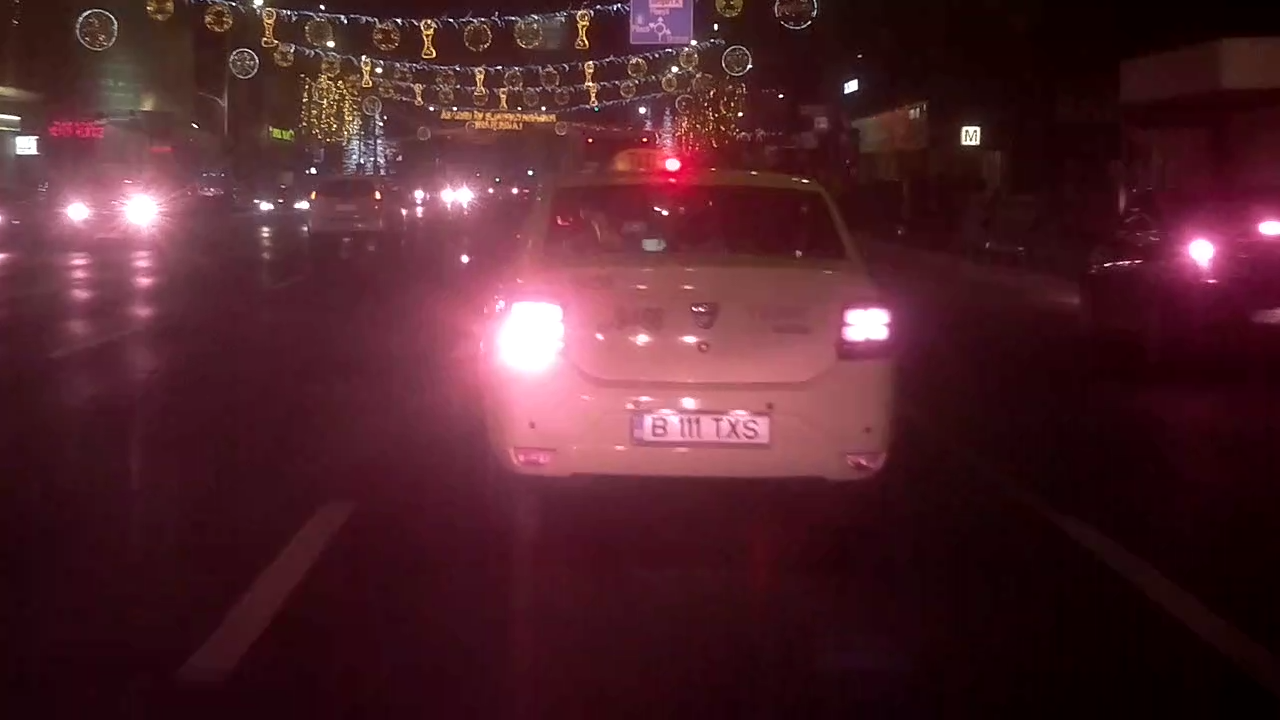license-plate: (628, 408, 777, 448)
